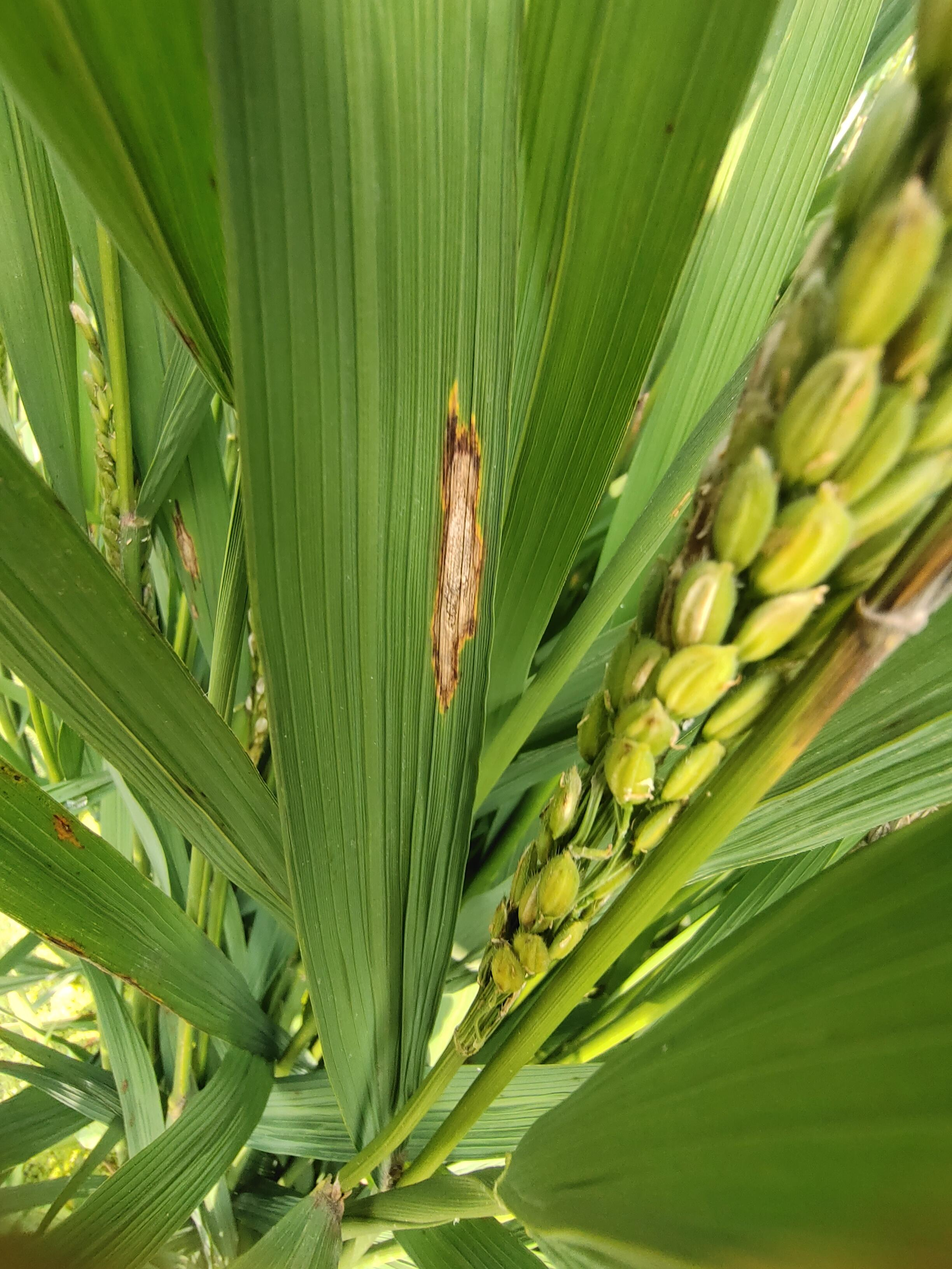LEAF BLAST: (431, 406, 484, 708)
